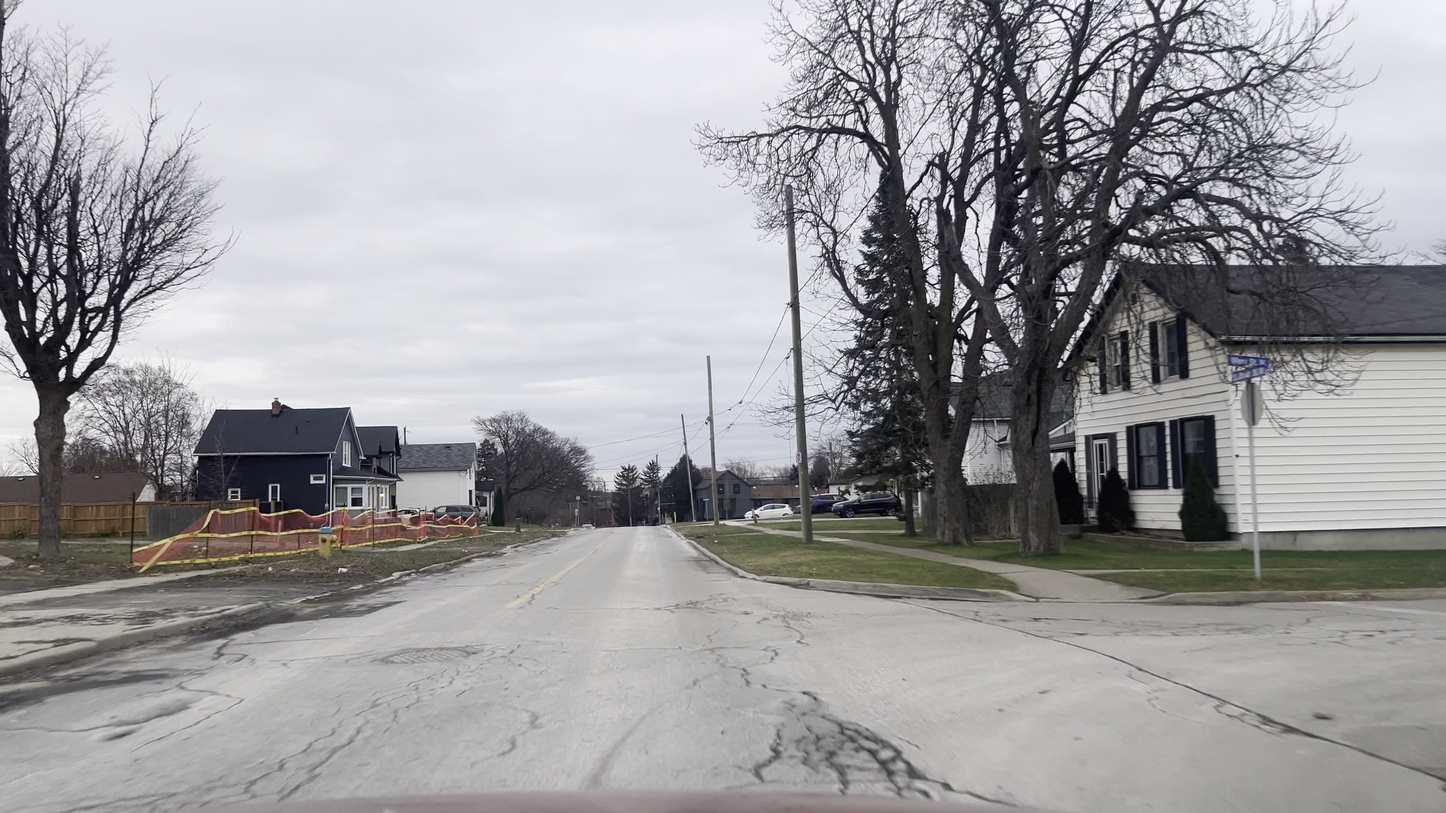cracks: (769, 700, 924, 795), (336, 689, 424, 740), (1209, 696, 1308, 738), (240, 757, 340, 796), (719, 654, 776, 685), (750, 607, 807, 634)
